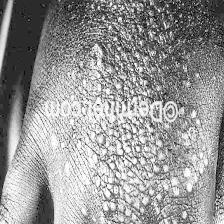Non-Cancerous Skin Condition: (62, 3, 204, 224)
